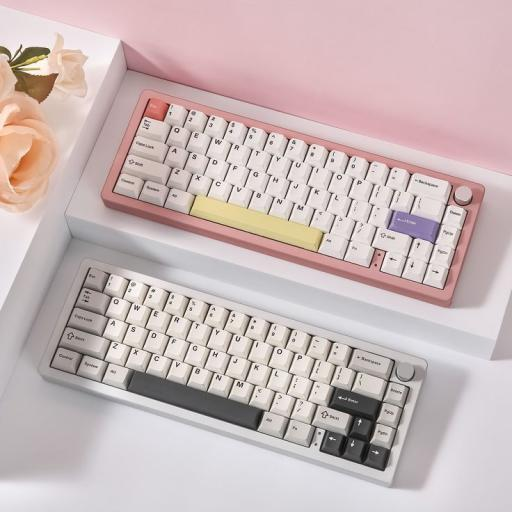keyboard: (39, 32, 492, 492)
